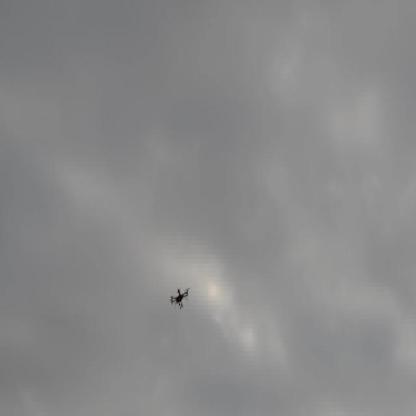drone: (168, 283, 191, 310)
